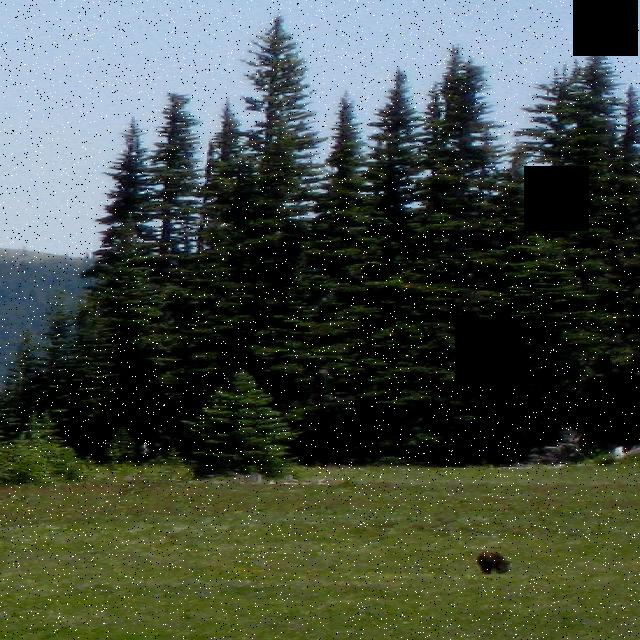Bear: (468, 544, 516, 576)
